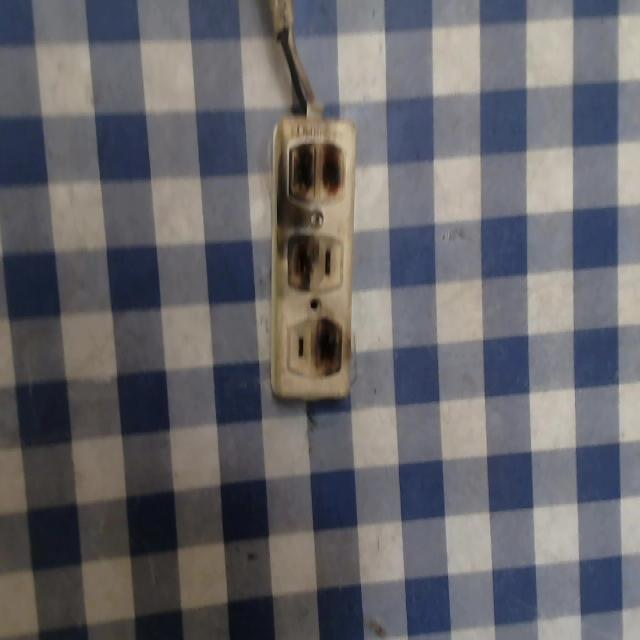-: (281, 132, 350, 211), (279, 228, 323, 297), (309, 310, 347, 382)
